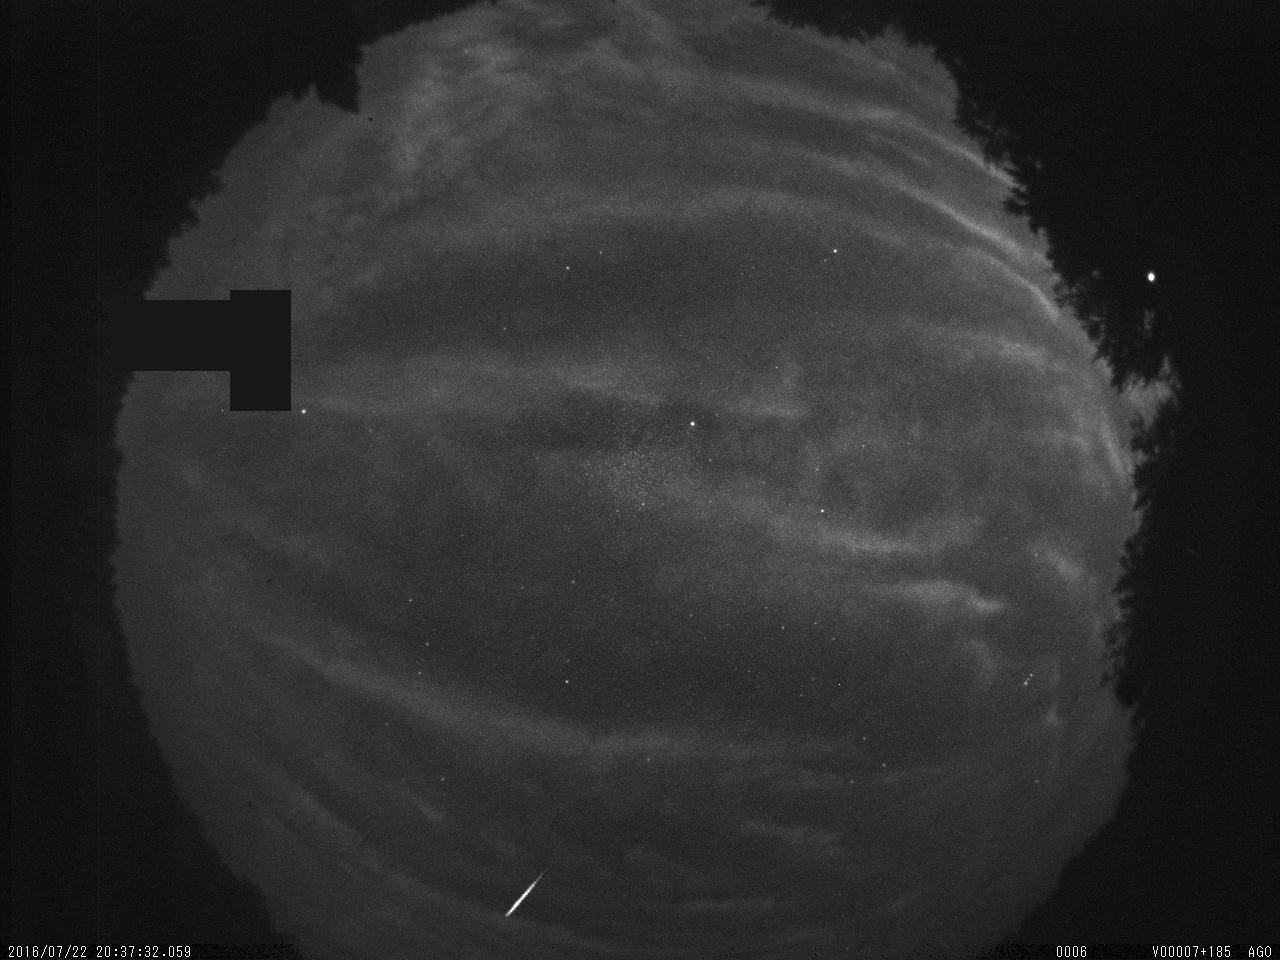meteor: (473, 849, 566, 933)
